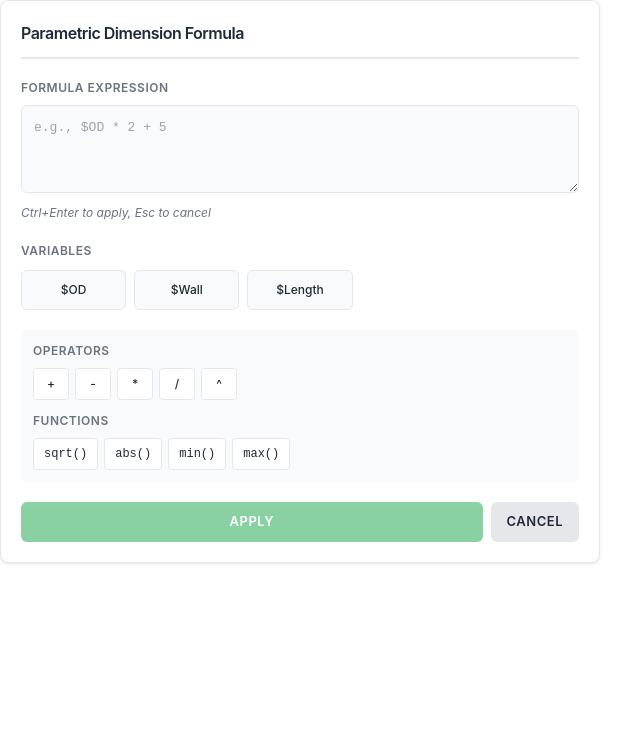
FormulaEditor Component › Formula Evaluation › should display error suggestions
Type "$UNKNOWN" into the text box with placeholder "e.g., $OD * 2 + 5".
click(300, 149); type("$UNKNOWN")  # box [21,105,579,193]
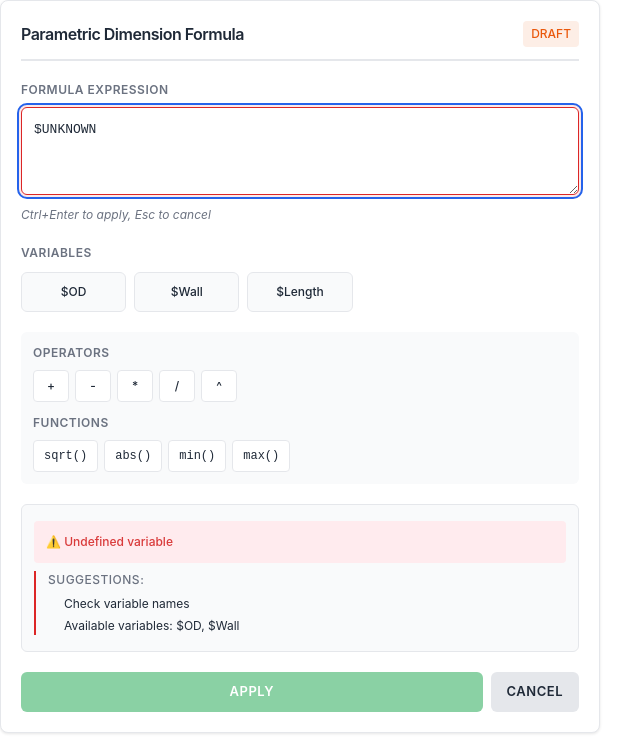
Check: the text "Suggestions:" is shown, box [48,572,144,587]
